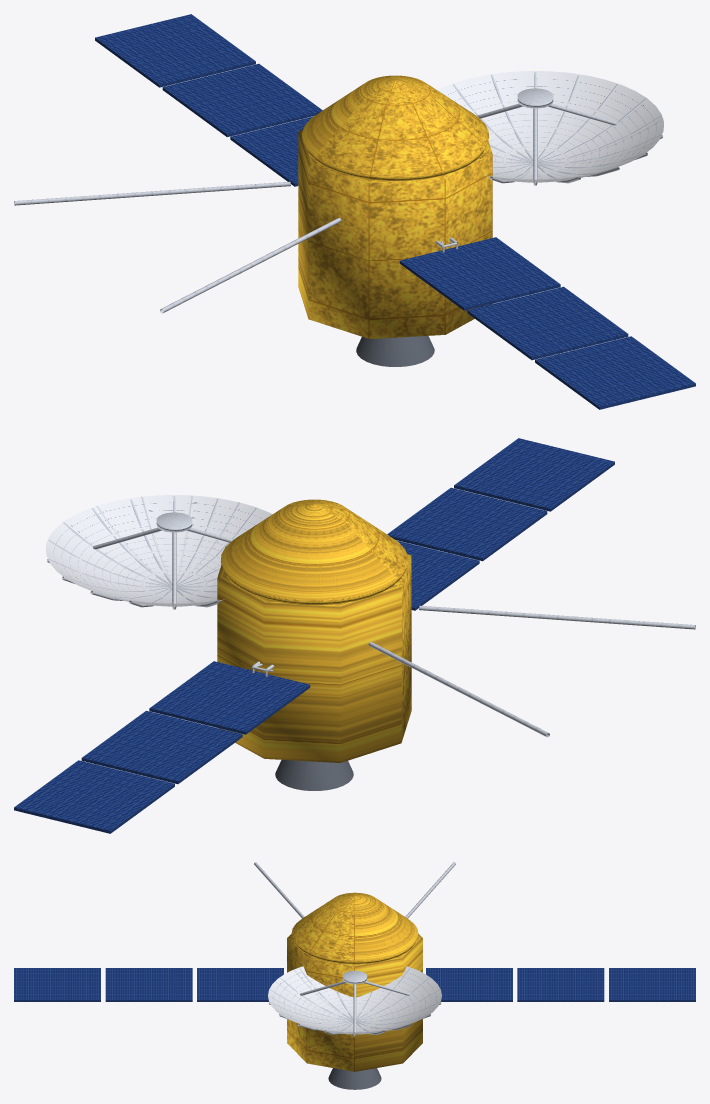
The model's file is sc_tianwen.glb.
3 renders of one model, top to bottom at view 1: azimuth 30°, elevation 25°; view 2: azimuth 150°, elevation 25°; view 3: azimuth 270°, elevation 25°, orthographic. The views are drawn at different scales.
Parts seen in each view (by area): view 1: tw_gold_bus_and_capsule, tw_solar_wings, tw_hga_dish, tw_ribs_and_booms, tw_3000n_engine; view 2: tw_gold_bus_and_capsule, tw_solar_wings, tw_hga_dish, tw_ribs_and_booms, tw_3000n_engine; view 3: tw_solar_wings, tw_gold_bus_and_capsule, tw_hga_dish, tw_ribs_and_booms, tw_3000n_engine.
Part boxes in pixels (x1=…): tw_gold_bus_and_capsule: x1=298, y1=75, x2=492, y2=338; tw_solar_wings: x1=95, y1=14, x2=695, y2=409; tw_hga_dish: x1=437, y1=71, x2=663, y2=182; tw_ribs_and_booms: x1=14, y1=72, x2=663, y2=313; tw_3000n_engine: x1=356, y1=336, x2=434, y2=366; tw_gold_bus_and_capsule: x1=217, y1=499, x2=411, y2=762; tw_solar_wings: x1=14, y1=438, x2=614, y2=833; tw_hga_dish: x1=46, y1=495, x2=272, y2=606; tw_ribs_and_booms: x1=46, y1=496, x2=695, y2=737; tw_3000n_engine: x1=275, y1=760, x2=353, y2=790; tw_solar_wings: x1=14, y1=968, x2=695, y2=1001; tw_gold_bus_and_capsule: x1=287, y1=892, x2=422, y2=1071; tw_hga_dish: x1=268, y1=966, x2=441, y2=1034; tw_ribs_and_booms: x1=254, y1=862, x2=455, y2=1036; tw_3000n_engine: x1=328, y1=1068, x2=381, y2=1089.
Bounding box in the file's own units: 1.26 × 0.5821 × 1.97.
5 materials, 4 textured.
